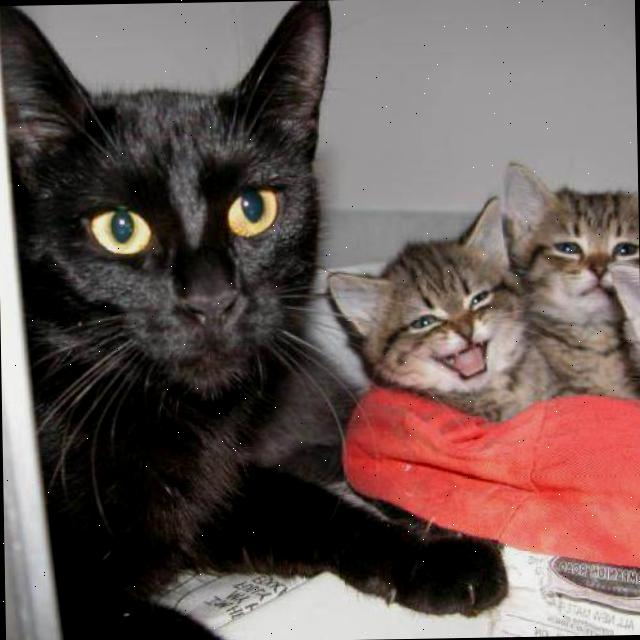cat-eye-normal: (80, 196, 162, 268), (214, 174, 292, 249), (400, 302, 450, 339), (544, 230, 588, 268), (456, 284, 496, 318), (602, 236, 637, 262)
